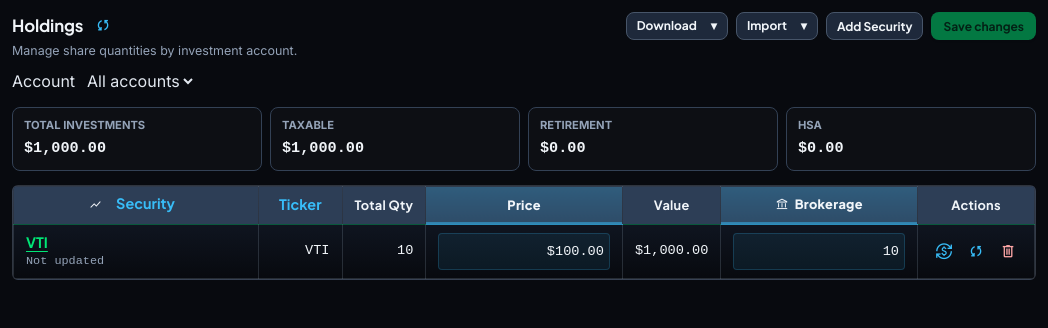
HoldingsPage dividend management › shows a server research cooldown while keeping the saved price
Step 1. Click the button named "Update VTI holding" → click(976, 252), box [962,238,990,266]
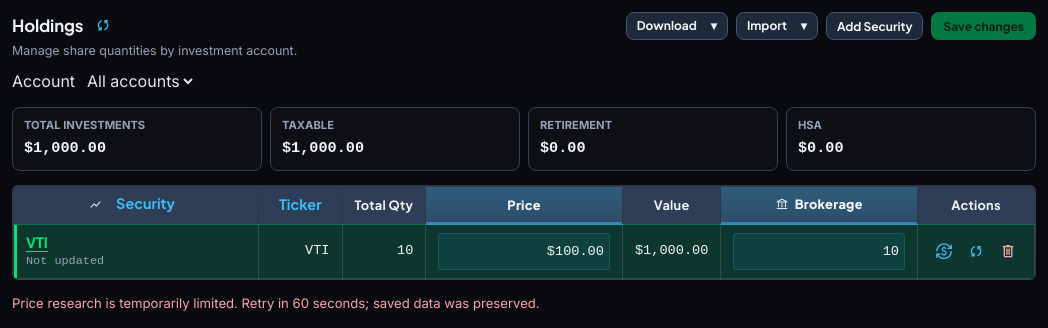
Expected: the field named "VTI price" holds "$100.00", [438,233,610,270]
Expected: the text "Retry in 60 seconds" is shown, [12,296,540,312]
